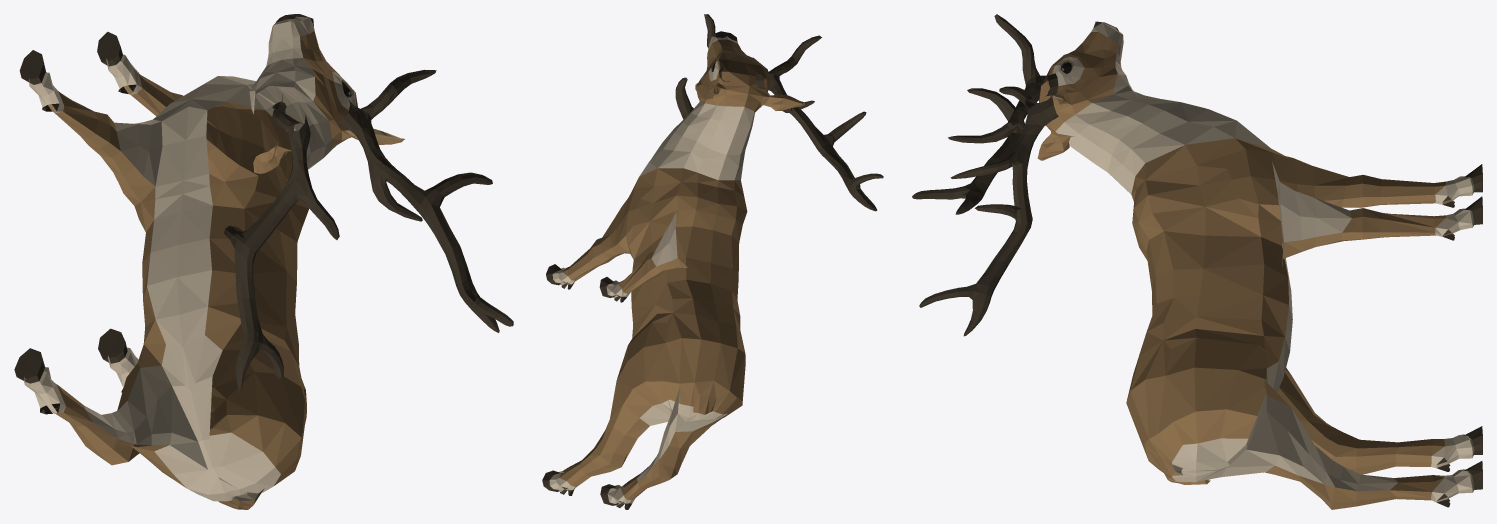
File: stag-idle-3.glb
3 renders of one model, left to right at view 1: azimuth 30°, elevation 25°; view 2: azimuth 150°, elevation 25°; view 3: azimuth 270°, elevation 25°, orthographic. The views are drawn at different scales.
Bounding box in the file's own units: 0.8668 × 1.65 × 1.81.
